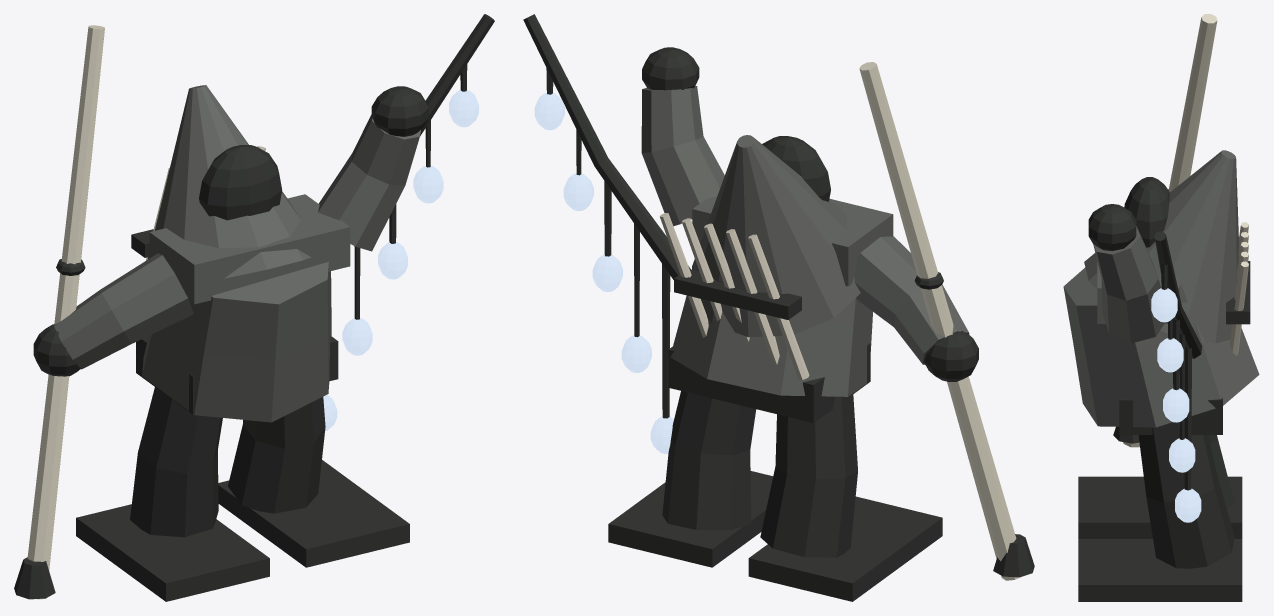
Rendered from fenman.glb.
3 renders of one model, left to right at view 1: azimuth 30°, elevation 25°; view 2: azimuth 150°, elevation 25°; view 3: azimuth 270°, elevation 25°, orthographic. The views are drawn at different scales.
Parts seen in each view (by area): view 1: fenman_body, fenman_dark, fenman_bone, fenman_glow; view 2: fenman_dark, fenman_body, fenman_bone, fenman_glow; view 3: fenman_dark, fenman_body, fenman_bone, fenman_glow.
Part boxes in pixels (box(x1,y1,x2,y2)): fenman_body: box(54, 85, 420, 422); fenman_dark: box(14, 14, 494, 601); fenman_bone: box(27, 25, 265, 599); fenman_glow: box(323, 90, 478, 431); fenman_dark: box(523, 14, 1034, 601); fenman_body: box(641, 86, 969, 396); fenman_bone: box(660, 62, 1020, 580); fenman_glow: box(534, 92, 673, 453); fenman_dark: box(1078, 177, 1250, 601); fenman_body: box(1063, 150, 1259, 427); fenman_bone: box(1123, 14, 1248, 447); fenman_glow: box(1151, 288, 1201, 522).
Bounding box in the file's own units: 2.48 × 2.52 × 0.9374.
